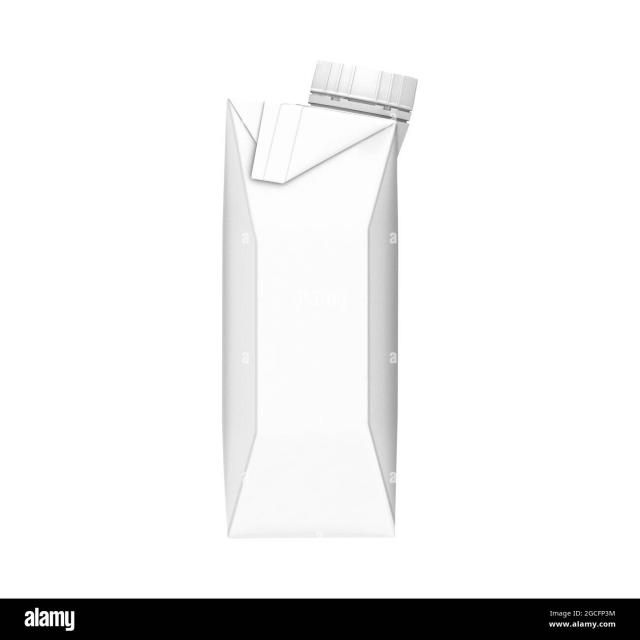non_white_jug: (198, 45, 418, 538)
